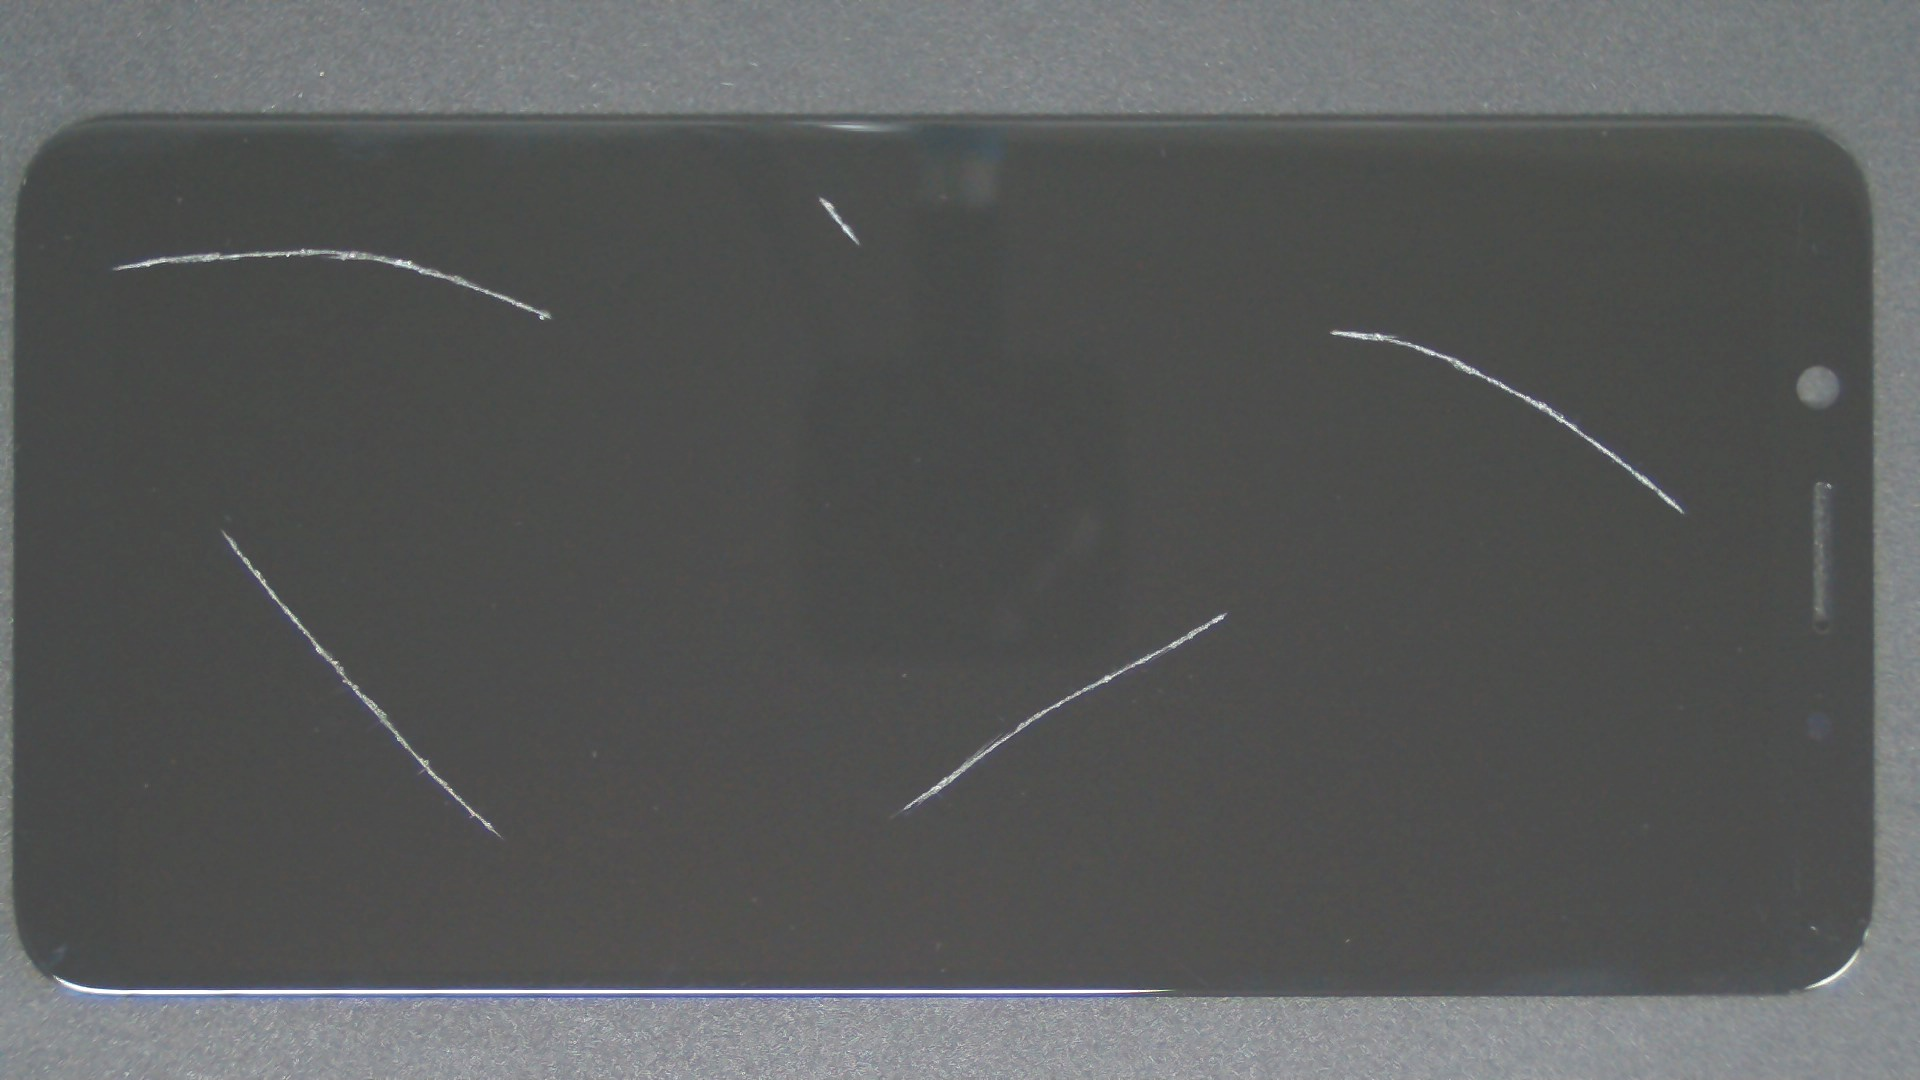oil: (613, 306, 1838, 919), (669, 164, 1920, 495), (410, 99, 1229, 298), (109, 264, 332, 794), (152, 123, 452, 373)
